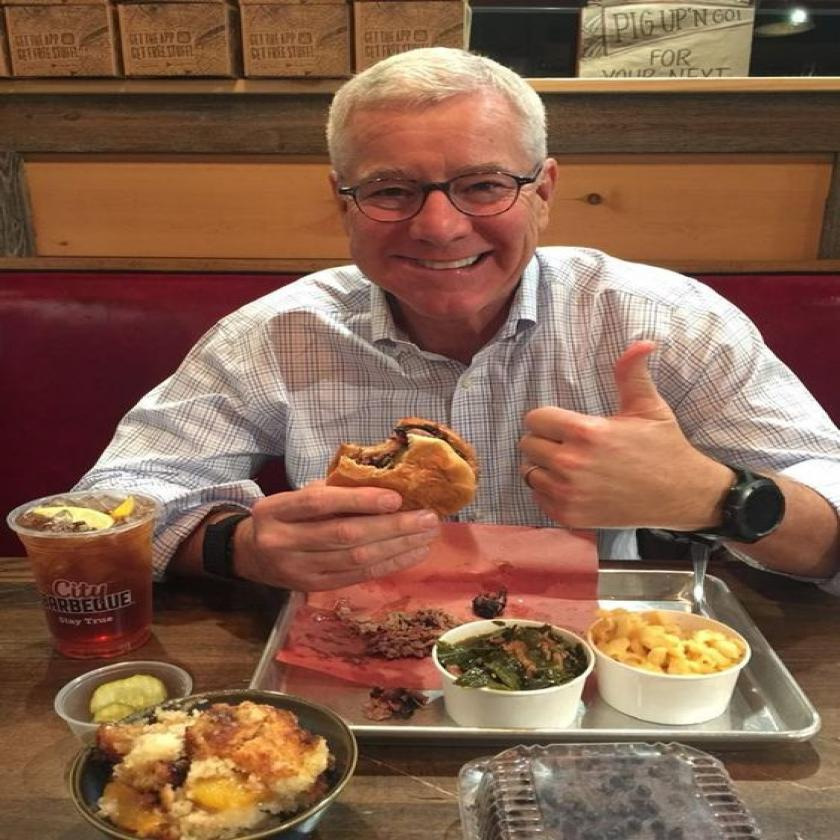Sin_casco: (304, 26, 578, 333)
